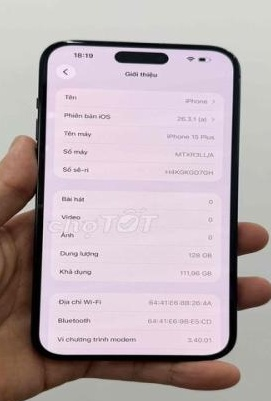scratch: (59, 35, 88, 45)
